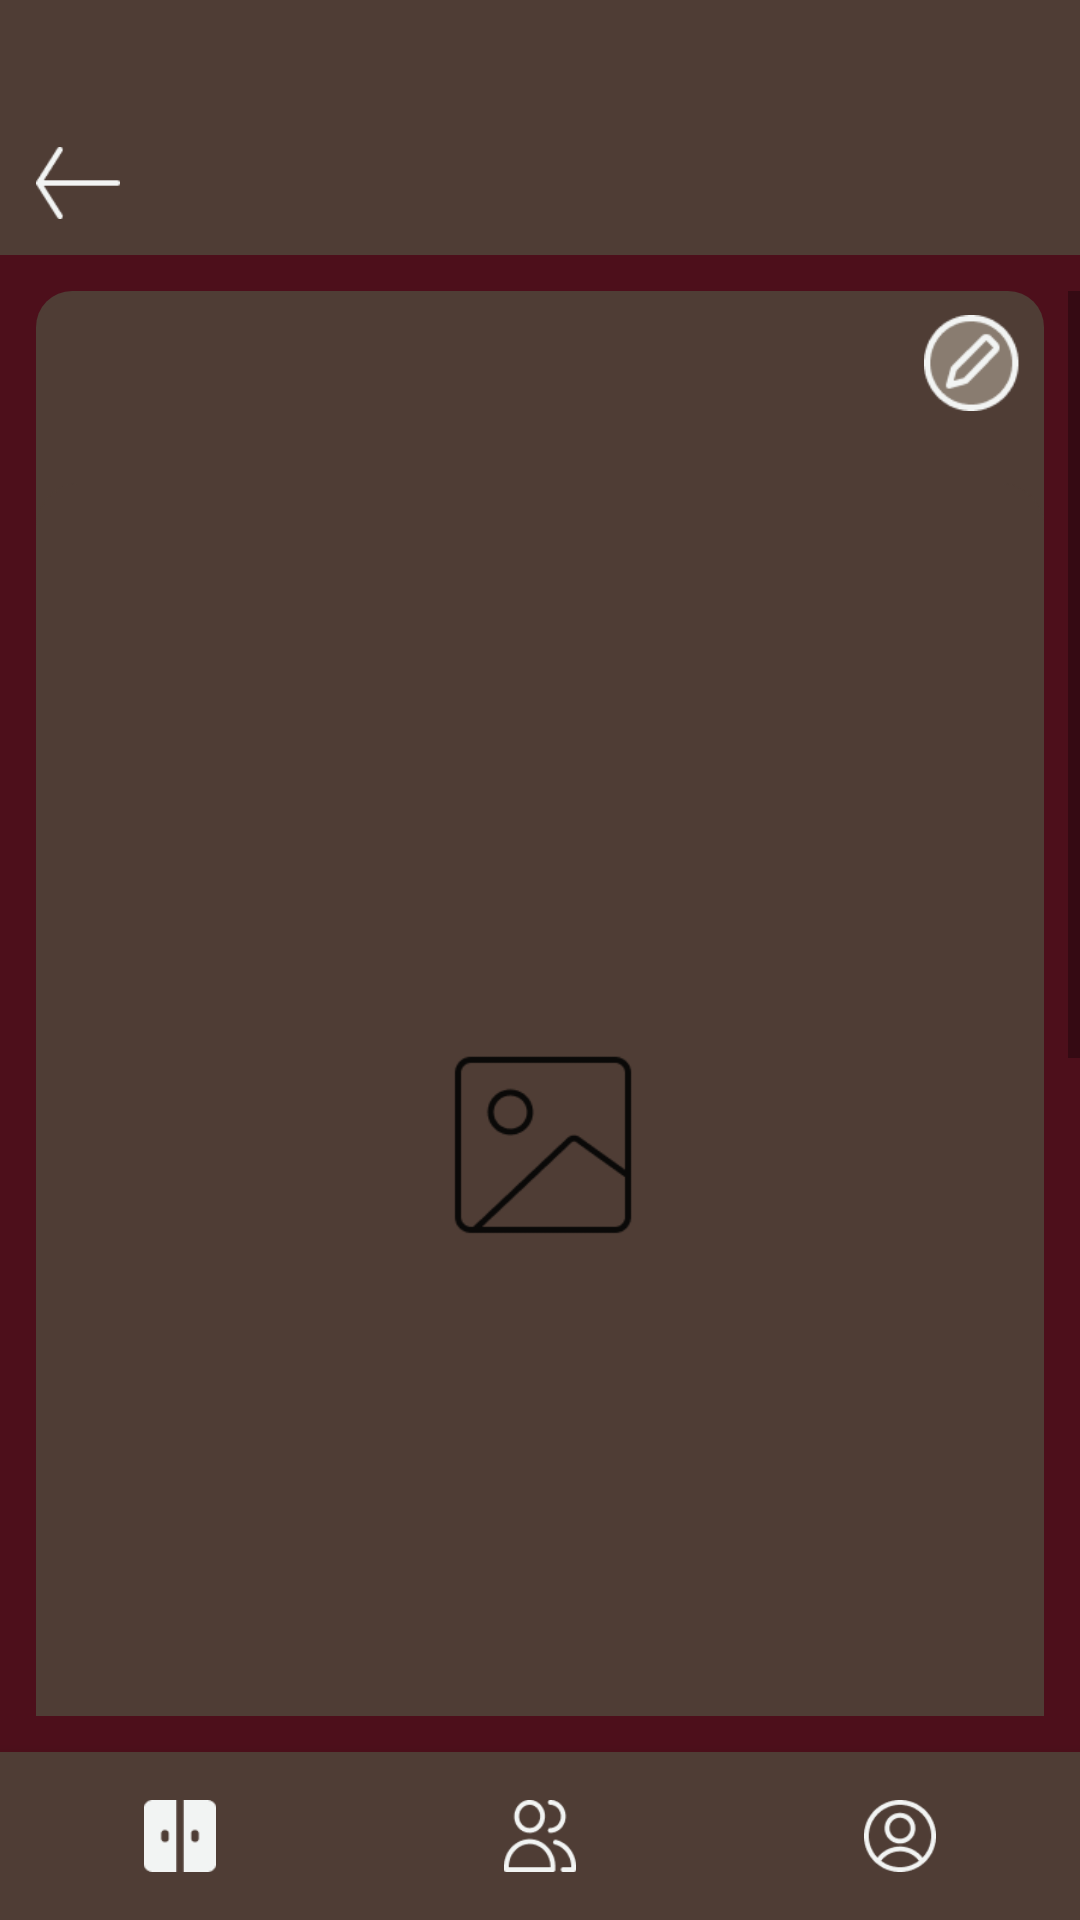

Screen size 1080 × 1920. Icon name, then its box in pixels as [x1=x1, y1=y1, x2=x2, y2=y2]:
Back: [x1=36, y1=147, x2=120, y2=219]
